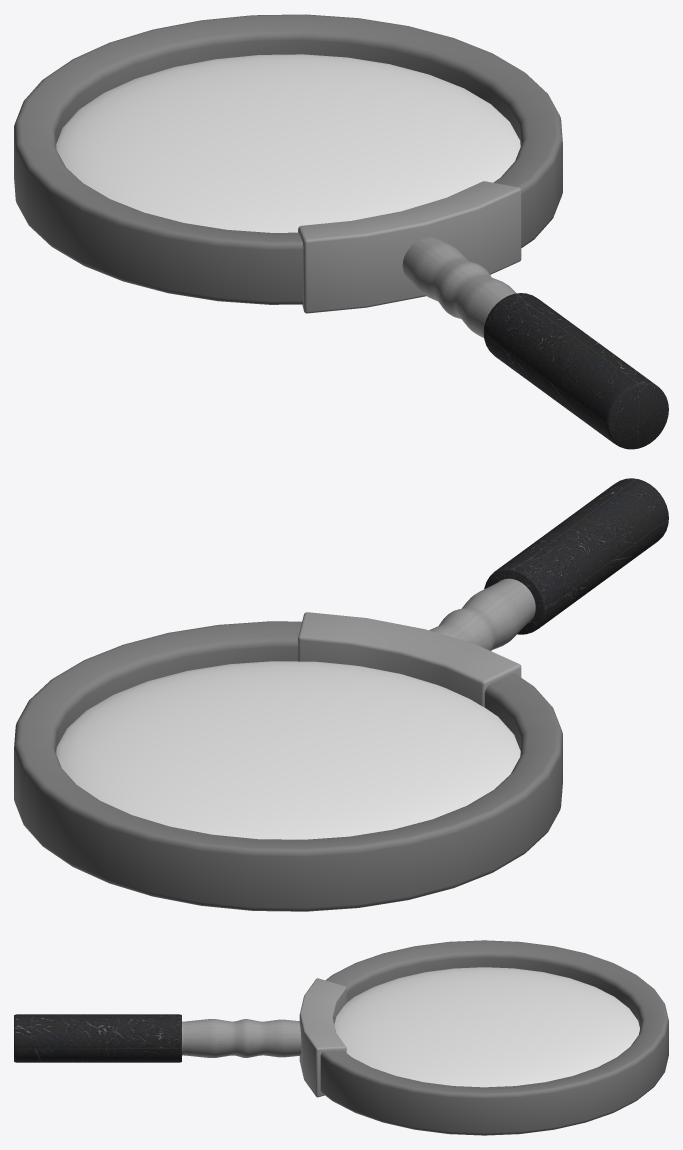
The model's file is 放大镜1.fbx.
3 views of the same model, one above another, from view 1: azimuth 30°, elevation 25°; view 2: azimuth 150°, elevation 25°; view 3: azimuth 270°, elevation 25° (orthographic). The views are drawn at different scales.
Parts seen in each view (by area): view 1: 镜片.001, 镜框, 镜框.001, 镜片, 金属体, 把手, 金属体.001; view 2: 镜框, 镜片.001, 镜框.001, 镜片, 把手, 金属体.001, 金属体; view 3: 镜框, 镜片.001, 镜框.001, 把手, 金属体.001, 镜片, 金属体.
Boxes of the visible parts, <box> form: 镜片.001: <box>104,56,520,232</box>; 镜框: <box>15,14,562,304</box>; 镜框.001: <box>14,15,562,303</box>; 镜片: <box>56,54,396,206</box>; 金属体: <box>298,188,521,337</box>; 把手: <box>483,293,668,449</box>; 金属体.001: <box>300,181,521,298</box>; 镜框: <box>15,622,562,911</box>; 镜片.001: <box>56,661,520,821</box>; 镜框.001: <box>14,621,562,911</box>; 镜片: <box>60,721,520,839</box>; 把手: <box>484,478,668,634</box>; 金属体.001: <box>298,578,518,706</box>; 金属体: <box>363,581,535,706</box>; 镜框: <box>320,940,668,1135</box>; 镜片.001: <box>334,968,604,1087</box>; 镜框.001: <box>321,940,668,1134</box>; 把手: <box>14,1014,181,1062</box>; 金属体.001: <box>182,978,346,1097</box>; 镜片: <box>452,967,639,1077</box>; 金属体: <box>182,978,344,1096</box>.
Bounding box in the file's own units: 40 × 6.07 × 70.98.
Materials: 8 (6 with a texture image).
